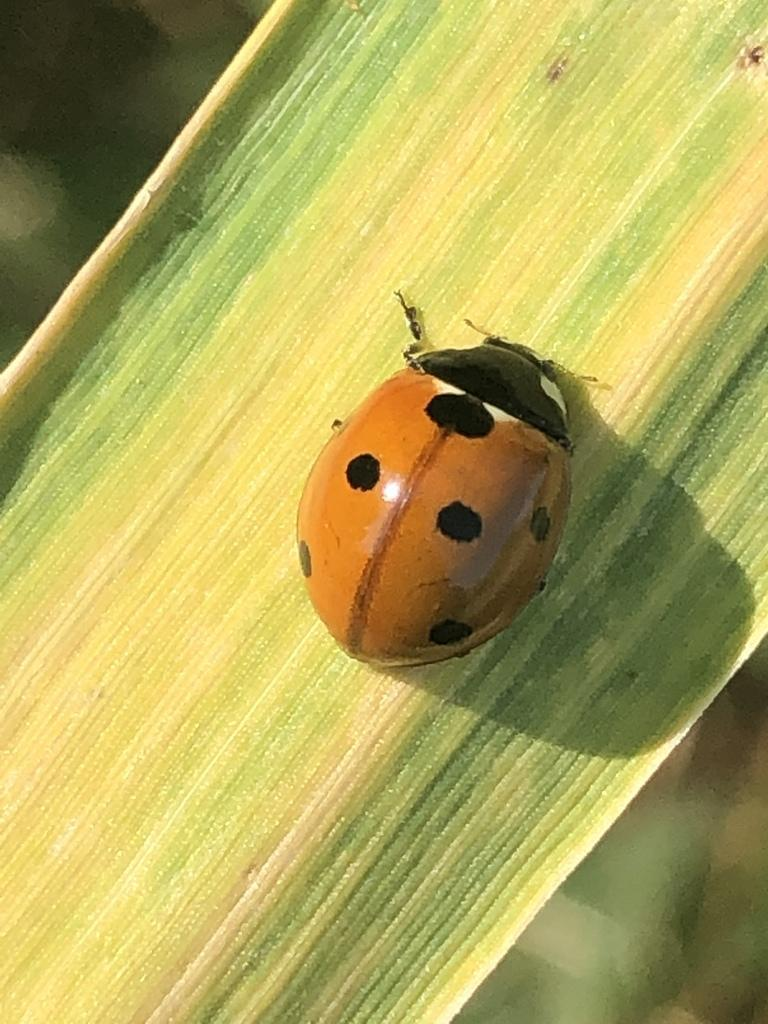ladybug: (294, 291, 604, 674)
